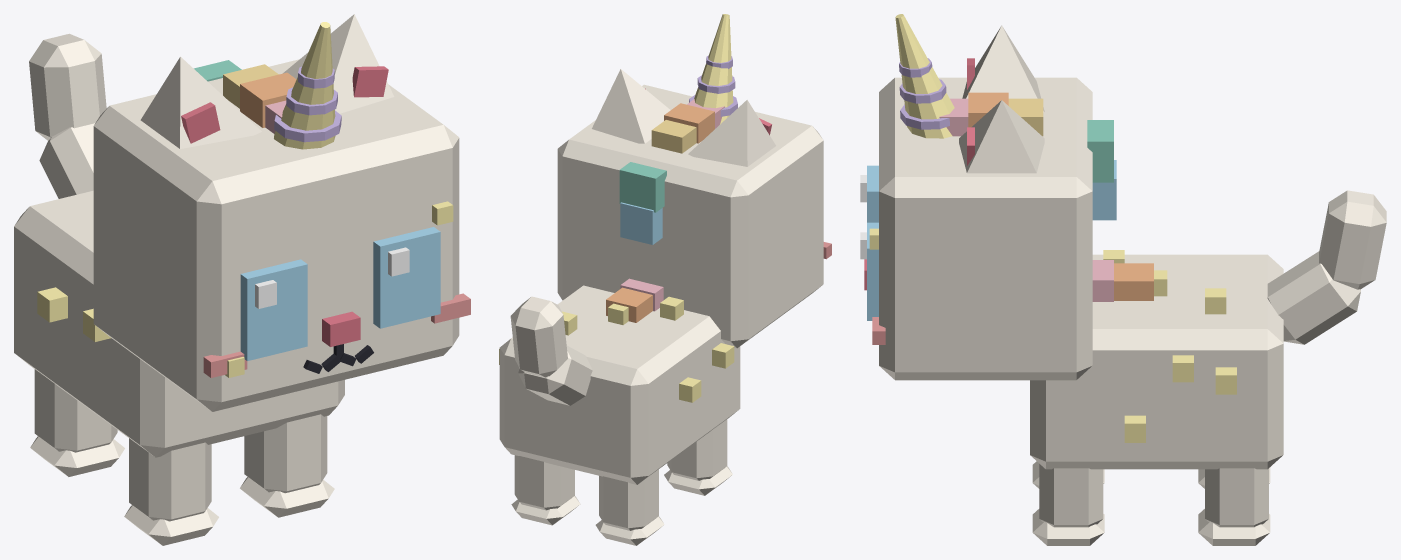
Rendered from CatCafe_Cat_Wisp.fbx.
3 views of the same model, side by side, from view 1: azimuth 30°, elevation 25°; view 2: azimuth 150°, elevation 25°; view 3: azimuth 270°, elevation 25° (orthographic). The views are drawn at different scales.
Visible parts, largest first — view 1: CatCafe_Cat_Wisp_Head, CatCafe_Cat_Wisp_Body, CatCafe_Cat_Wisp_Tail, CatCafe_Cat_Wisp_LegF2, CatCafe_Cat_Wisp_LegF1, CatCafe_Cat_Wisp_Eye1, CatCafe_Cat_Wisp_Eye2, CatCafe_Cat_Wisp_LegB2, CatCafe_Cat_Wisp_EarR, CatCafe_Cat_Wisp_EarL, CatCafe_Cat_Wisp_Glow, CatCafe_Cat_Wisp_Prop; view 2: CatCafe_Cat_Wisp_Head, CatCafe_Cat_Wisp_Body, CatCafe_Cat_Wisp_Tail, CatCafe_Cat_Wisp_LegB2, CatCafe_Cat_Wisp_LegB1, CatCafe_Cat_Wisp_EarL, CatCafe_Cat_Wisp_EarR, CatCafe_Cat_Wisp_LegF2, CatCafe_Cat_Wisp_Glow, CatCafe_Cat_Wisp_Prop; view 3: CatCafe_Cat_Wisp_Head, CatCafe_Cat_Wisp_Body, CatCafe_Cat_Wisp_Tail, CatCafe_Cat_Wisp_LegF1, CatCafe_Cat_Wisp_LegB1, CatCafe_Cat_Wisp_EarL, CatCafe_Cat_Wisp_EarR, CatCafe_Cat_Wisp_Glow, CatCafe_Cat_Wisp_Prop, CatCafe_Cat_Wisp_Eye1, CatCafe_Cat_Wisp_Eye2.
Part boxes in pixels (x1,y1,x2,y2): CatCafe_Cat_Wisp_Head: (93,59,470,411); CatCafe_Cat_Wisp_Body: (14,190,344,457); CatCafe_Cat_Wisp_Tail: (29,33,106,198); CatCafe_Cat_Wisp_LegF2: (124,438,218,545); CatCafe_Cat_Wisp_LegF1: (240,414,334,517); CatCafe_Cat_Wisp_Eye1: (373,227,440,328); CatCafe_Cat_Wisp_Eye2: (240,259,307,360); CatCafe_Cat_Wisp_LegB2: (30,369,124,476); CatCafe_Cat_Wisp_EarR: (140,56,261,148); CatCafe_Cat_Wisp_EarL: (283,14,394,113); CatCafe_Cat_Wisp_Glow: (274,22,335,149); CatCafe_Cat_Wisp_Prop: (274,66,341,142); CatCafe_Cat_Wisp_Head: (557,84,831,348); CatCafe_Cat_Wisp_Body: (499,278,740,484); CatCafe_Cat_Wisp_Tail: (510,296,592,405); CatCafe_Cat_Wisp_LegB2: (595,469,664,545); CatCafe_Cat_Wisp_LegB1: (511,455,580,525); CatCafe_Cat_Wisp_EarL: (592,69,670,143); CatCafe_Cat_Wisp_EarR: (688,100,775,166); CatCafe_Cat_Wisp_LegF2: (664,419,732,495); CatCafe_Cat_Wisp_Glow: (694,14,733,124); CatCafe_Cat_Wisp_Prop: (689,55,737,116); CatCafe_Cat_Wisp_Head: (864,77,1116,380); CatCafe_Cat_Wisp_Body: (1030,250,1283,469); CatCafe_Cat_Wisp_Tail: (1267,190,1386,344); CatCafe_Cat_Wisp_LegF1: (1032,464,1104,545); CatCafe_Cat_Wisp_LegB1: (1198,468,1270,545); CatCafe_Cat_Wisp_EarL: (959,100,1044,173); CatCafe_Cat_Wisp_EarR: (962,25,1044,112); CatCafe_Cat_Wisp_Glow: (895,14,954,138); CatCafe_Cat_Wisp_Prop: (899,58,949,129); CatCafe_Cat_Wisp_Eye1: (860,222,878,320); CatCafe_Cat_Wisp_Eye2: (860,165,878,222).
Size of the model in its own units: 1 by 2.05 by 1.97.
Materials: 1 (1 with a texture image).
